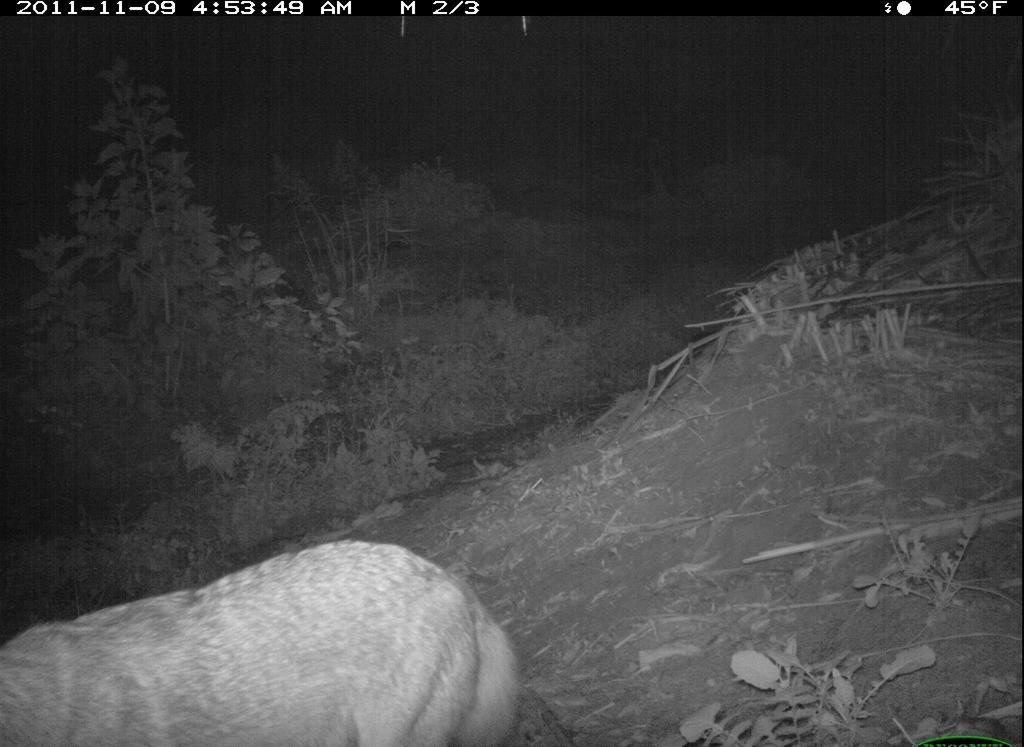coyote: (4, 537, 521, 747)
